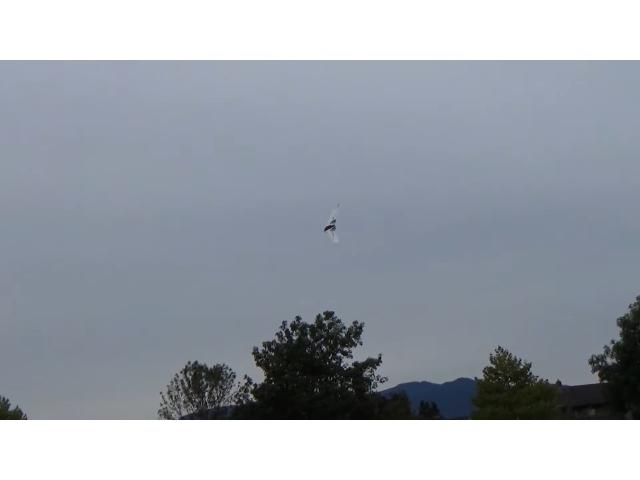Anti-Drone: (325, 203, 343, 241)
